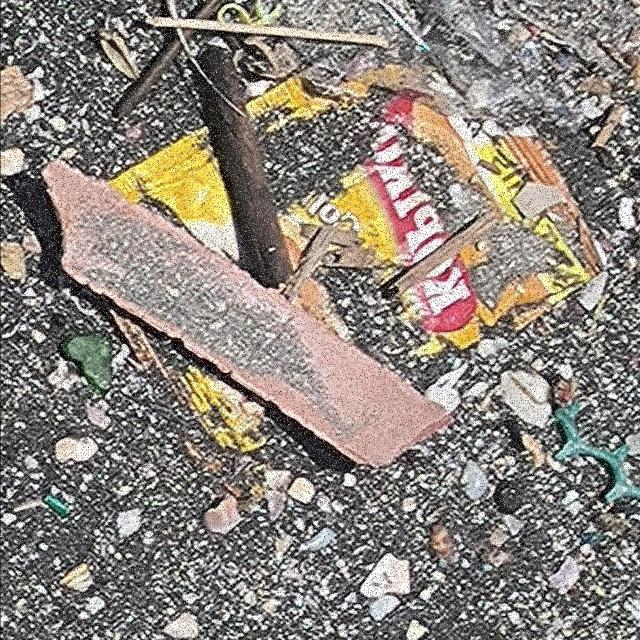plastic_waste: (94, 47, 610, 460)
